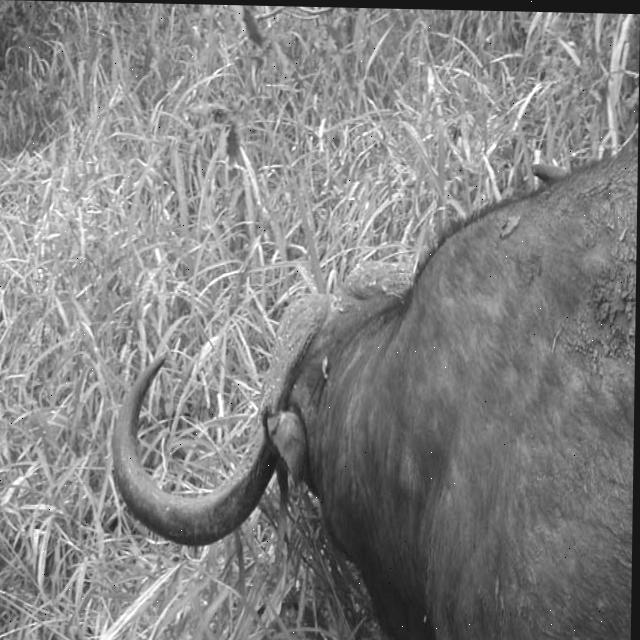Buffalo: (111, 145, 637, 640)
